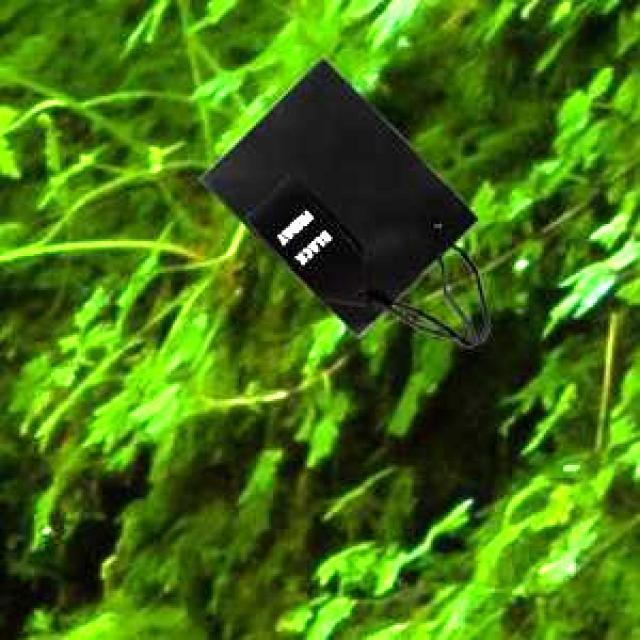Paper_Bag: (198, 54, 488, 344)
